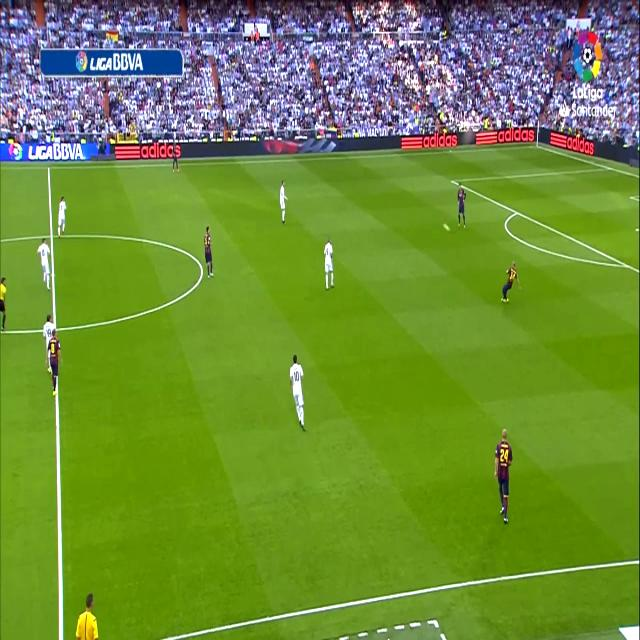bigarea_top_inner: (449, 174, 455, 187)
halfcircle_top: (47, 226, 57, 244)
midline_top_intersection: (46, 162, 52, 173)
top_arc_area_intersection: (512, 204, 520, 219)
